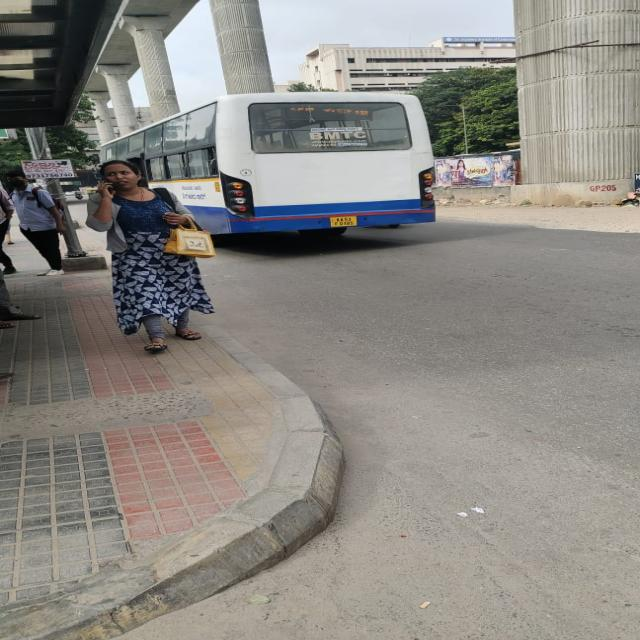bus: (187, 92, 443, 239)
display: (282, 106, 374, 121)
